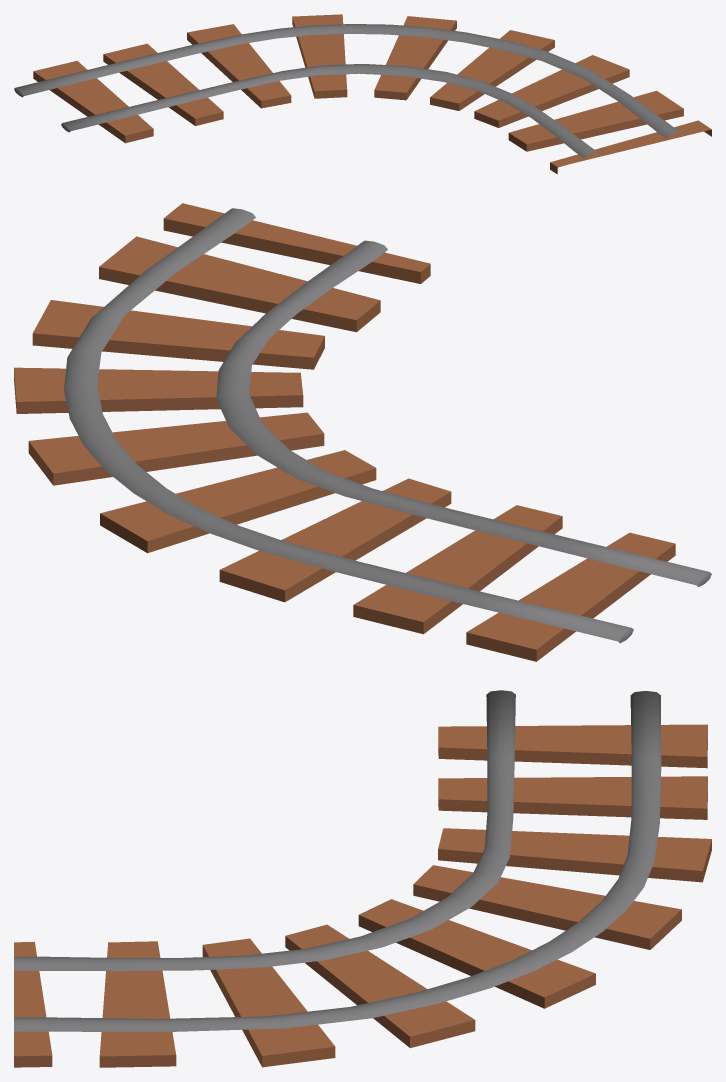
File: Half_Half_Trail.fbx
The picture shows the model from 3 angles, top to bottom: view 1: azimuth 30°, elevation 25°; view 2: azimuth 150°, elevation 25°; view 3: azimuth 270°, elevation 25°; orthographic projection. The views are drawn at different scales.
Visible parts, largest first — view 1: Half_Half_Trail; view 2: Half_Half_Trail; view 3: Half_Half_Trail.
Part boxes in pixels (<box>): Half_Half_Trail: <box>14,14,711,174</box>; Half_Half_Trail: <box>14,203,711,661</box>; Half_Half_Trail: <box>14,690,711,1067</box>.
Bounding box in the file's own units: 572 × 14.33 × 471.
